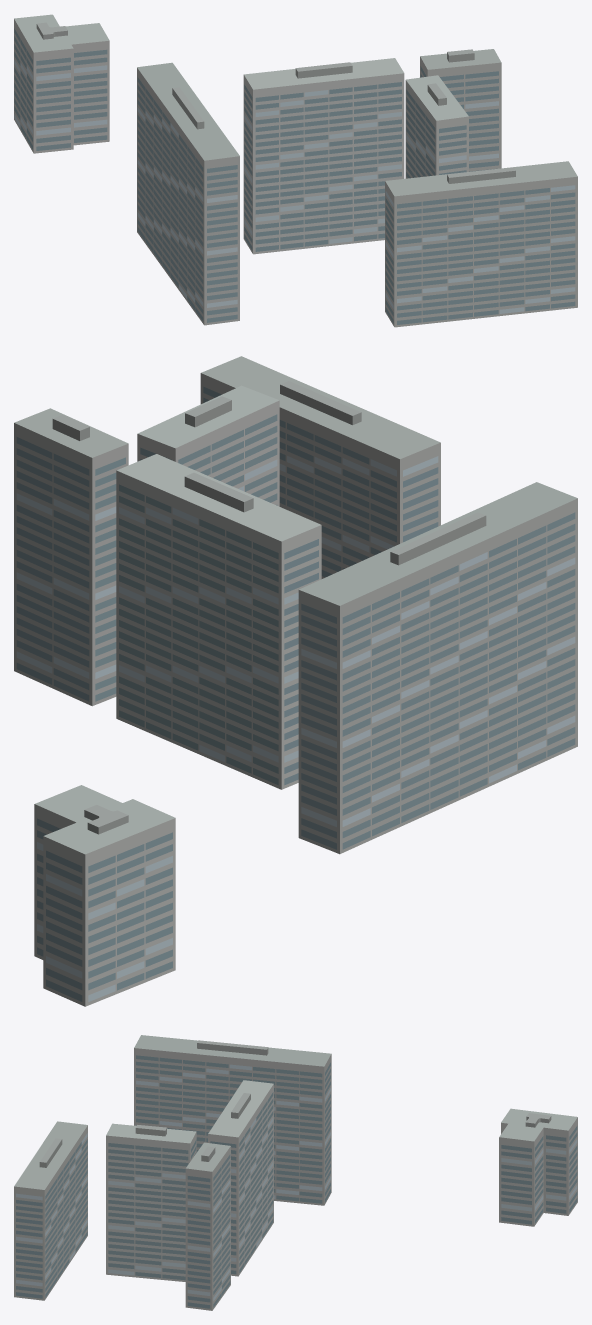
The model's file is apt-a14319311.glb.
3 views of the same model, one above another, from view 1: azimuth 30°, elevation 25°; view 2: azimuth 150°, elevation 25°; view 3: azimuth 270°, elevation 25° (orthographic). The views are drawn at different scales.
Visible parts, largest first — view 1: apt-a14319311; view 2: apt-a14319311; view 3: apt-a14319311.
Part boxes in pixels (left/top/right/bottom): apt-a14319311: left=14, top=14, right=577, bottom=327; apt-a14319311: left=14, top=356, right=577, bottom=1006; apt-a14319311: left=14, top=1035, right=577, bottom=1310.
Bounding box in the file's own units: 121 × 60 × 212.
